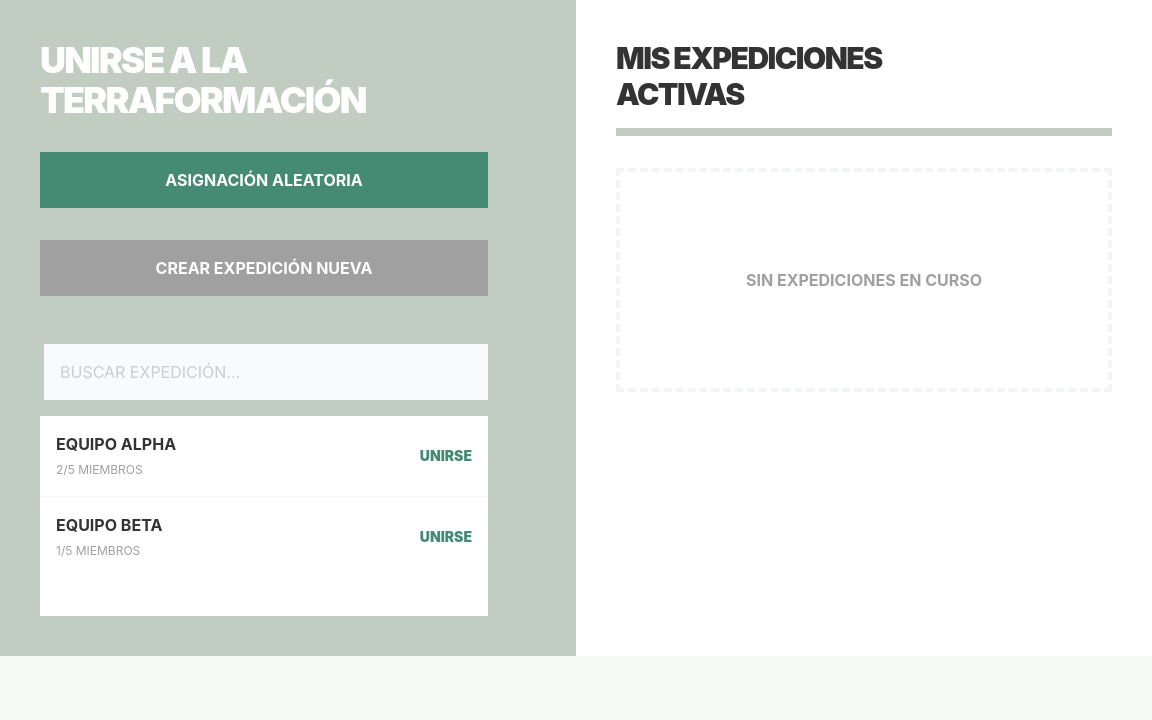
Dashboard — tests de componente › el buscador filtra la lista de partidas disponibles
The image size is (1152, 720).
Expected: the text "EQUIPO ALPHA" is shown, [56,432,176,456]
Type "Alpha" into the field with placeholder "BUSCAR EXPEDICIÓN...". click: (264, 372)
box: [40,344,488,400]
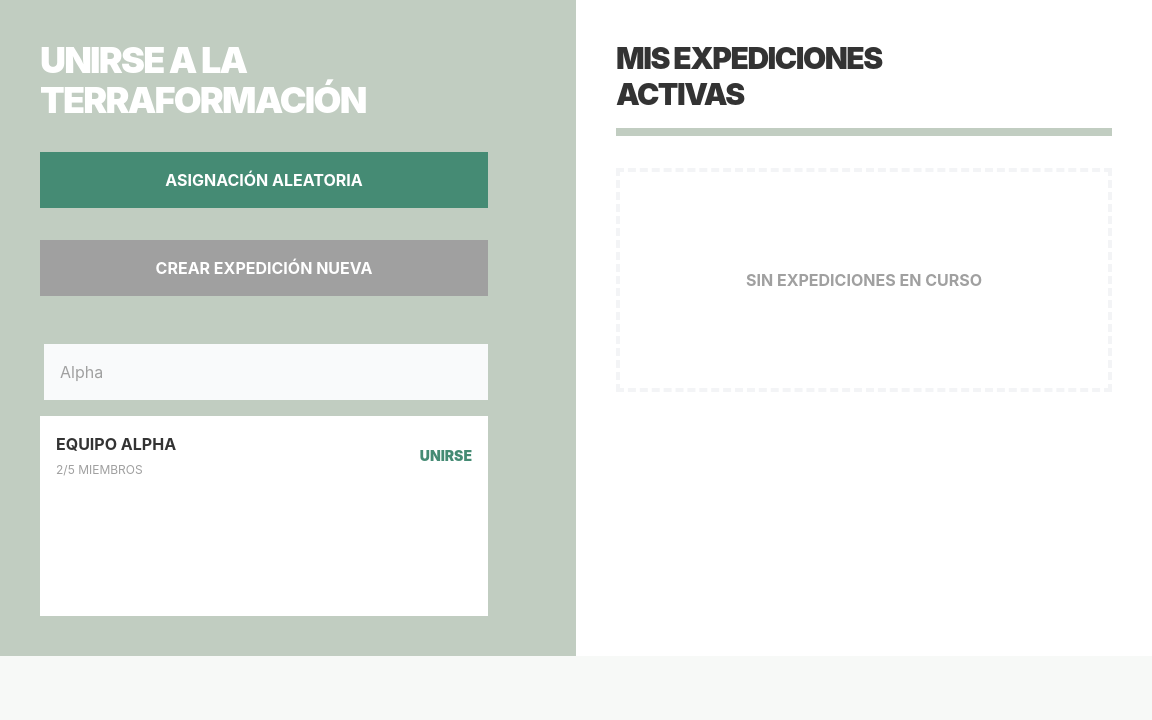
Expected: the text "EQUIPO ALPHA" is shown, [56,432,176,456]
Expected: the text "EQUIPO BETA" is gone
